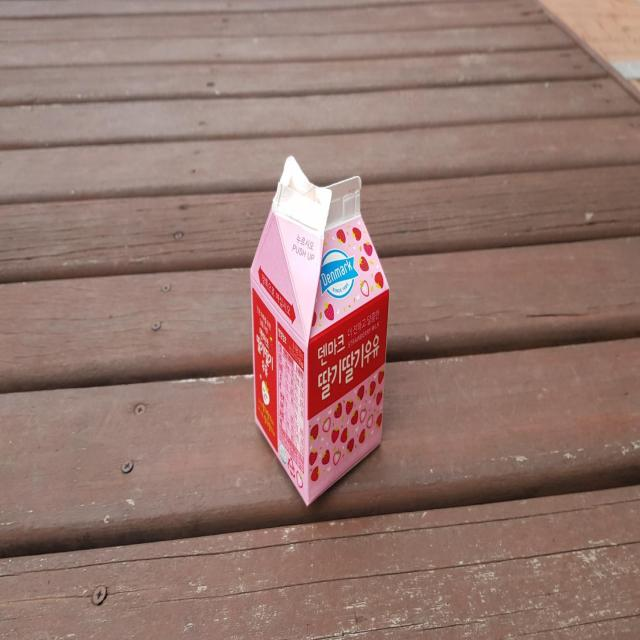paperpack: (251, 155, 389, 505)
